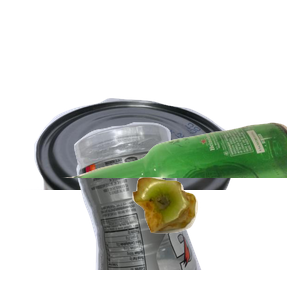glass: (60, 120, 300, 300)
metal: (16, 96, 244, 276)
plastic: (71, 120, 265, 300)
trash: (130, 175, 300, 300)
